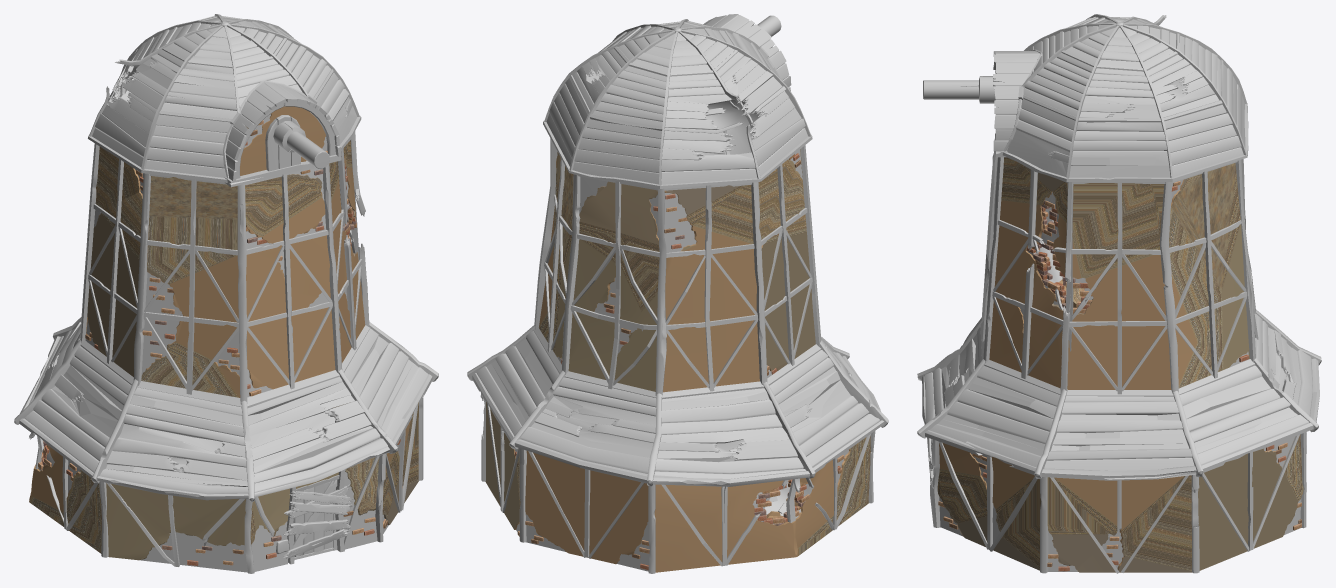
3 views of the same model, side by side, from view 1: azimuth 30°, elevation 25°; view 2: azimuth 150°, elevation 25°; view 3: azimuth 270°, elevation 25° (orthographic). The views are drawn at different scales.
Visible parts, largest first — view 1: SM_Windmill_01v2_Top_LOD0; view 2: SM_Windmill_01v2_Top_LOD0; view 3: SM_Windmill_01v2_Top_LOD0.
Part boxes in pixels (bbox=[...]): SM_Windmill_01v2_Top_LOD0: bbox=[14, 14, 438, 573]; SM_Windmill_01v2_Top_LOD0: bbox=[467, 14, 888, 573]; SM_Windmill_01v2_Top_LOD0: bbox=[917, 14, 1321, 573].
Bounding box in the file's own units: 11.17 × 14.43 × 11.16.
